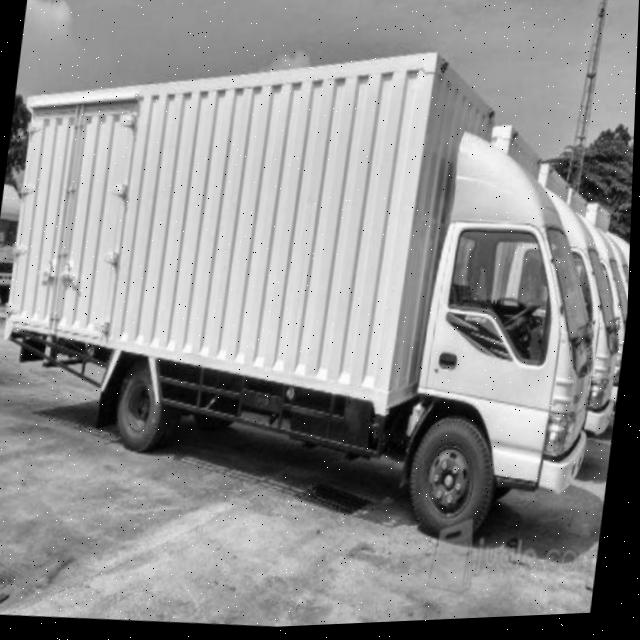truck: (361, 116, 637, 535)
